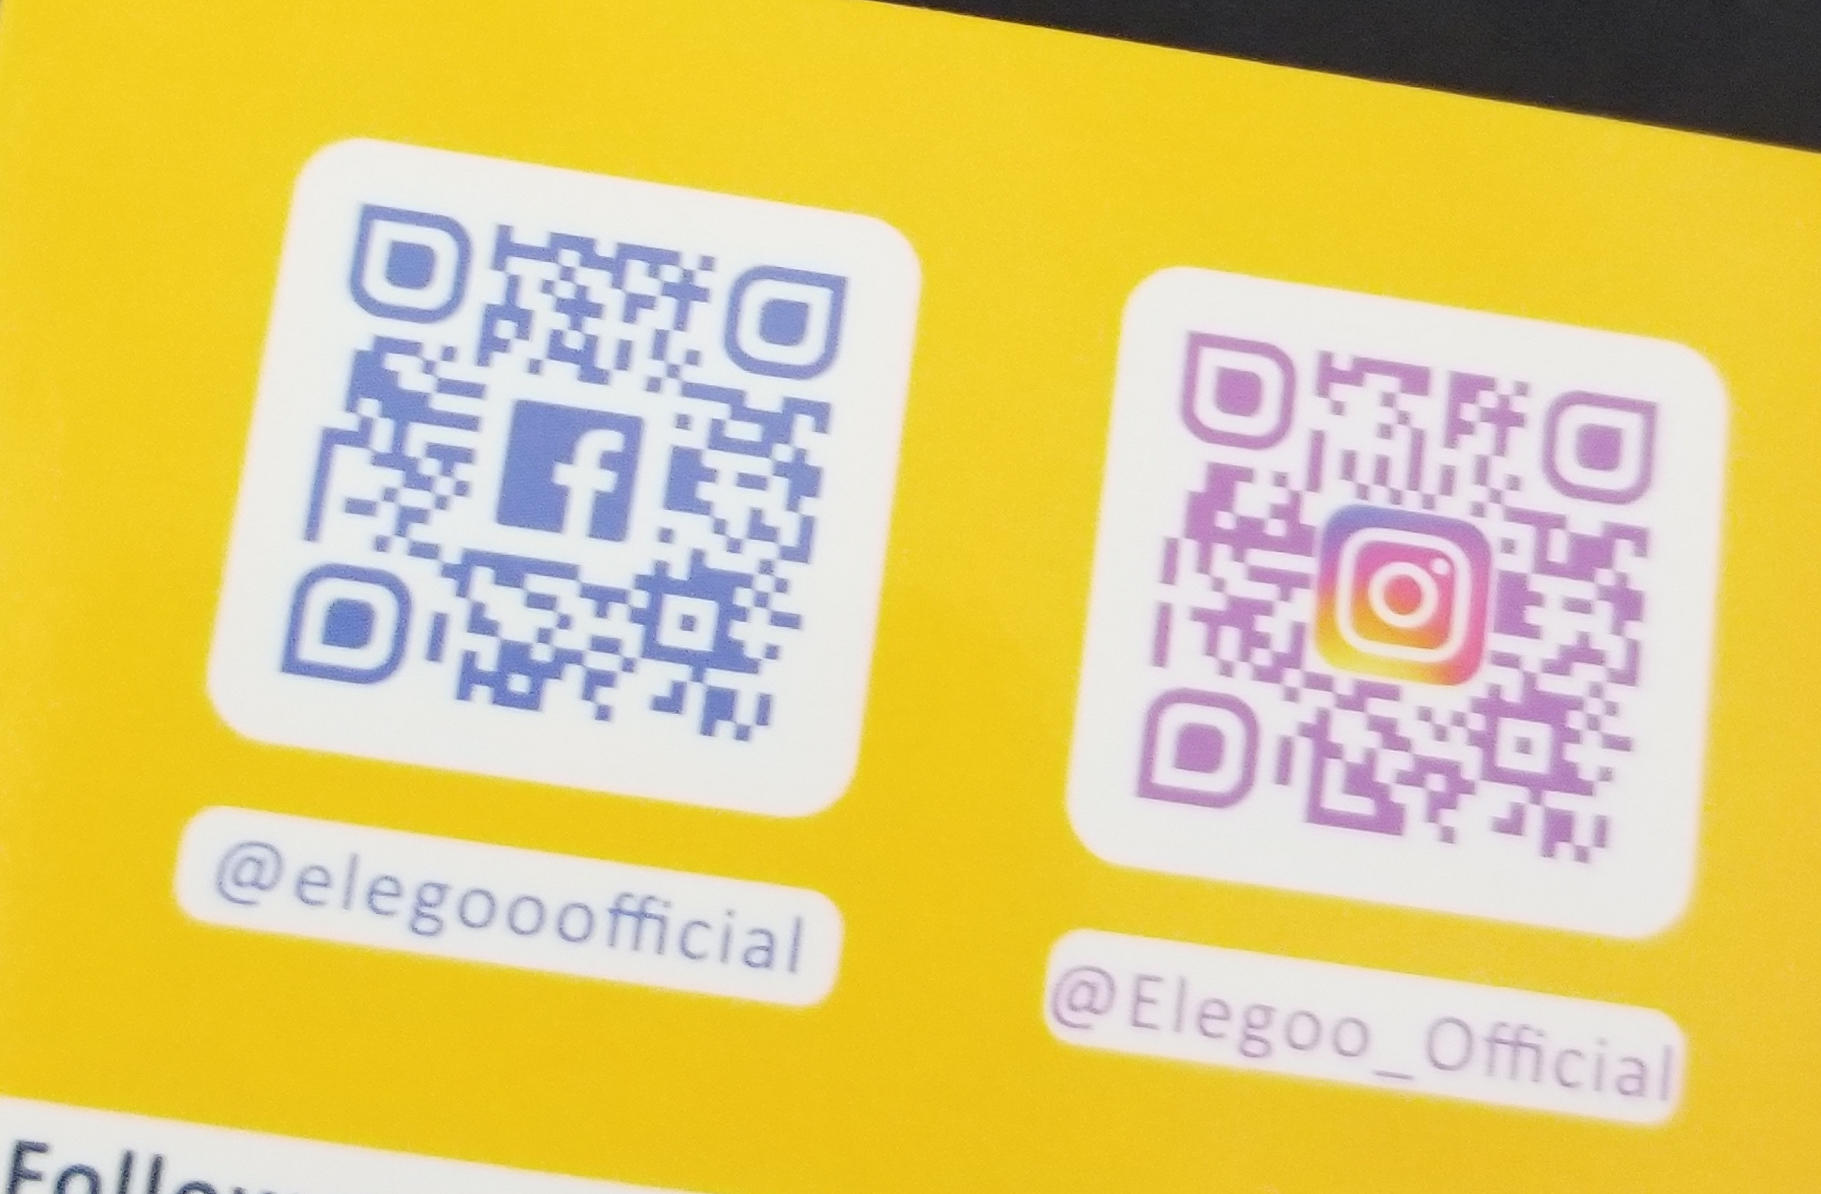QR_CODE: (253, 159, 869, 777), (1100, 297, 1693, 893)
